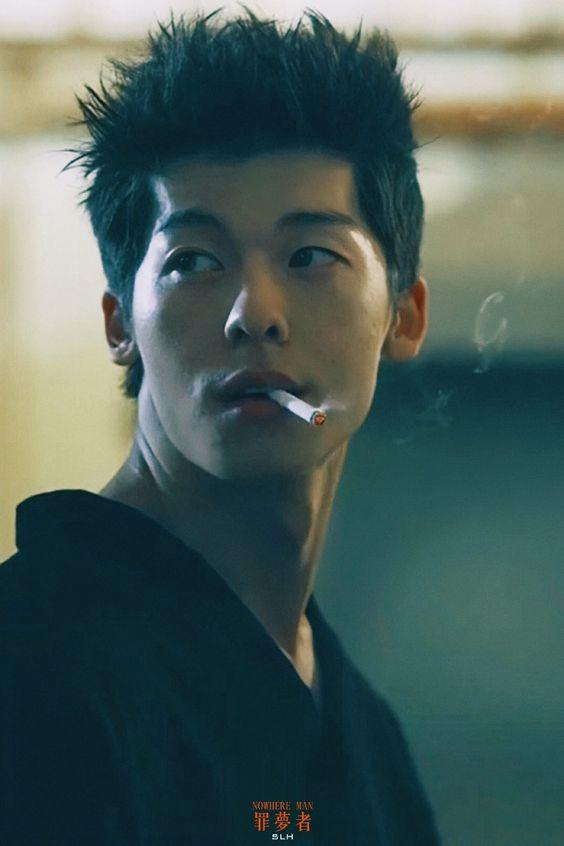cigarette: (267, 389, 326, 427)
